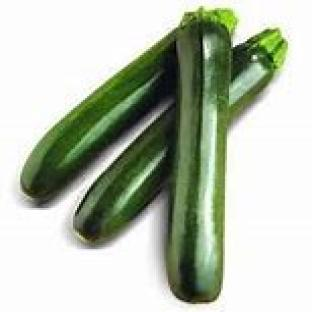Zucchini: (21, 30, 176, 202), (167, 14, 230, 302), (73, 104, 174, 243)
